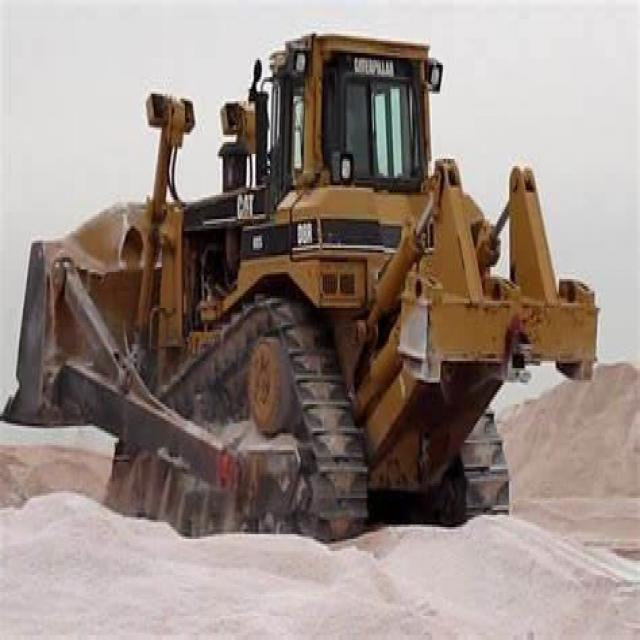Bulldozer: (15, 34, 598, 604)
